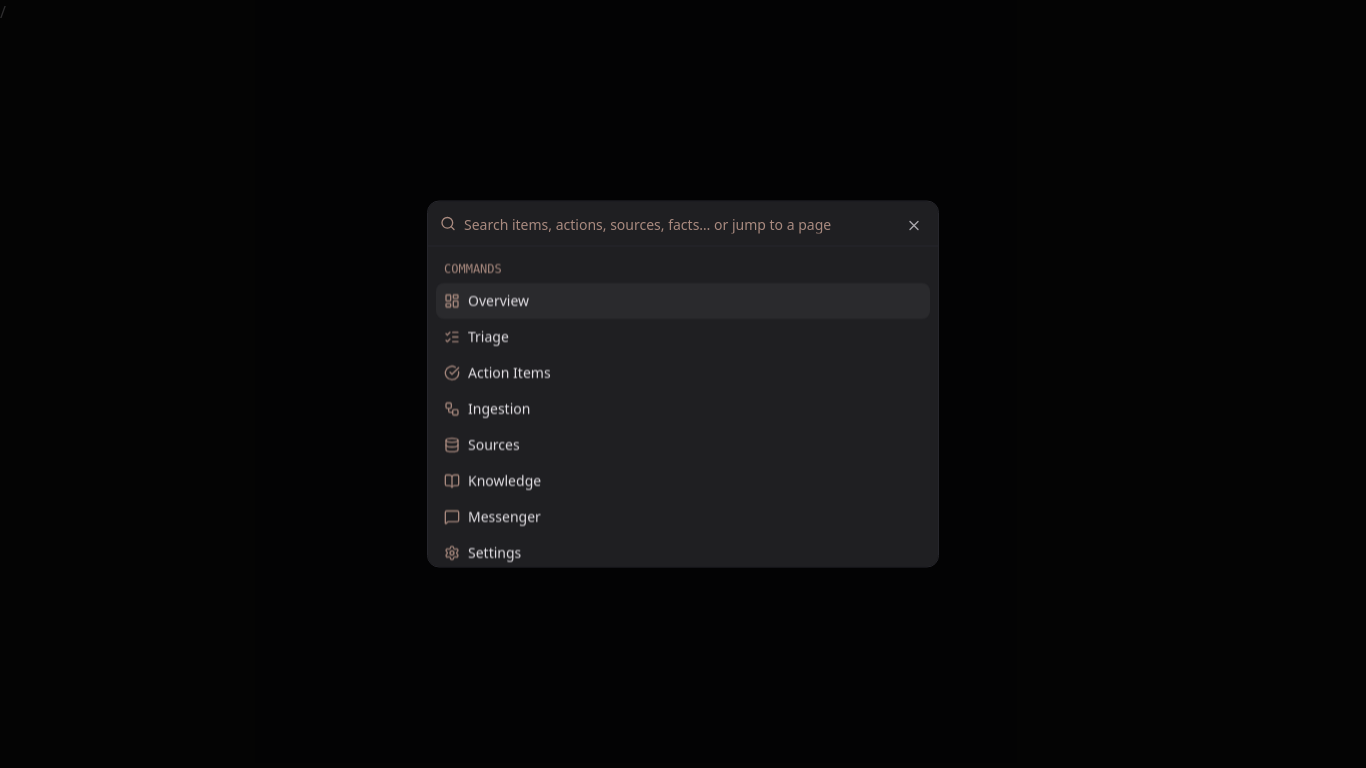
it: CommandPalette › navigates via a local nav Command
Click the option "Action Items": (497, 372) [444, 362, 551, 382]
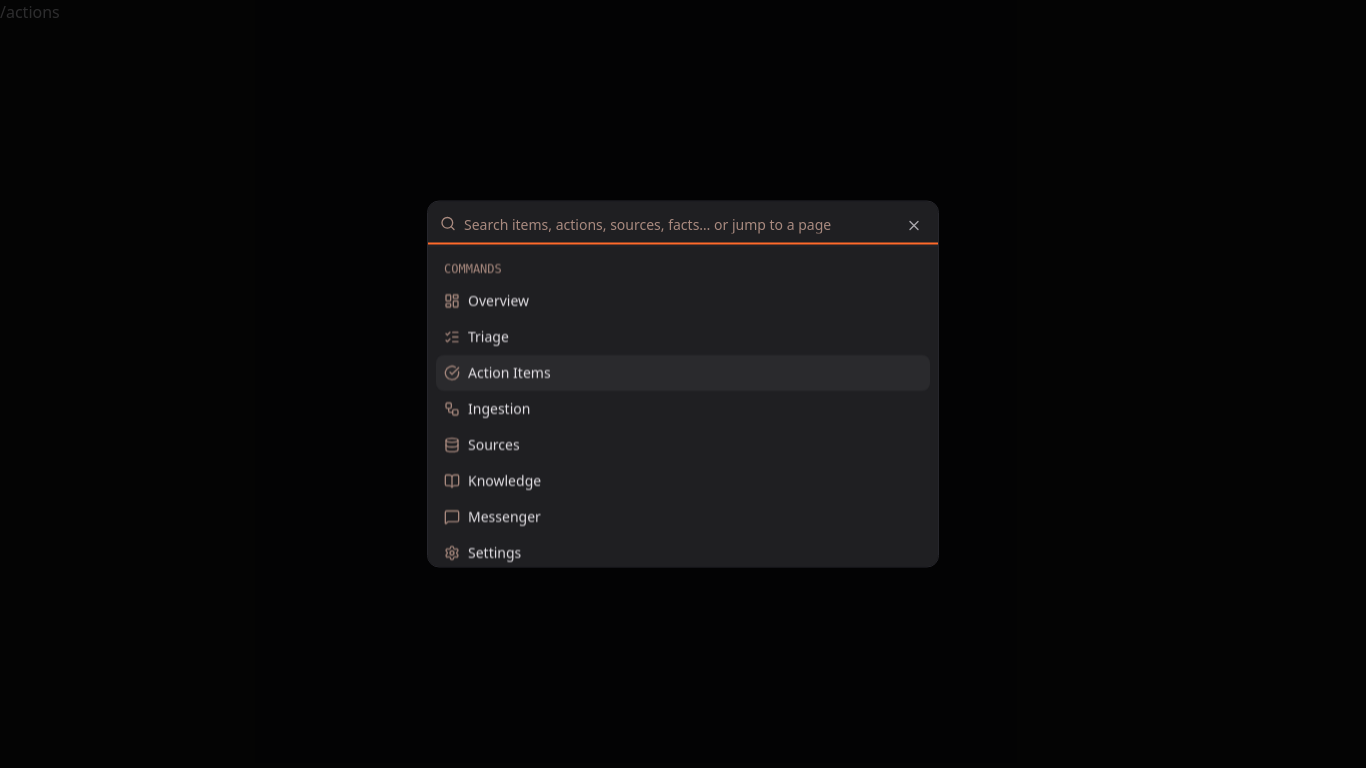
Check: the text with test id "location" reads "/actions", box [0, 1, 60, 23]
